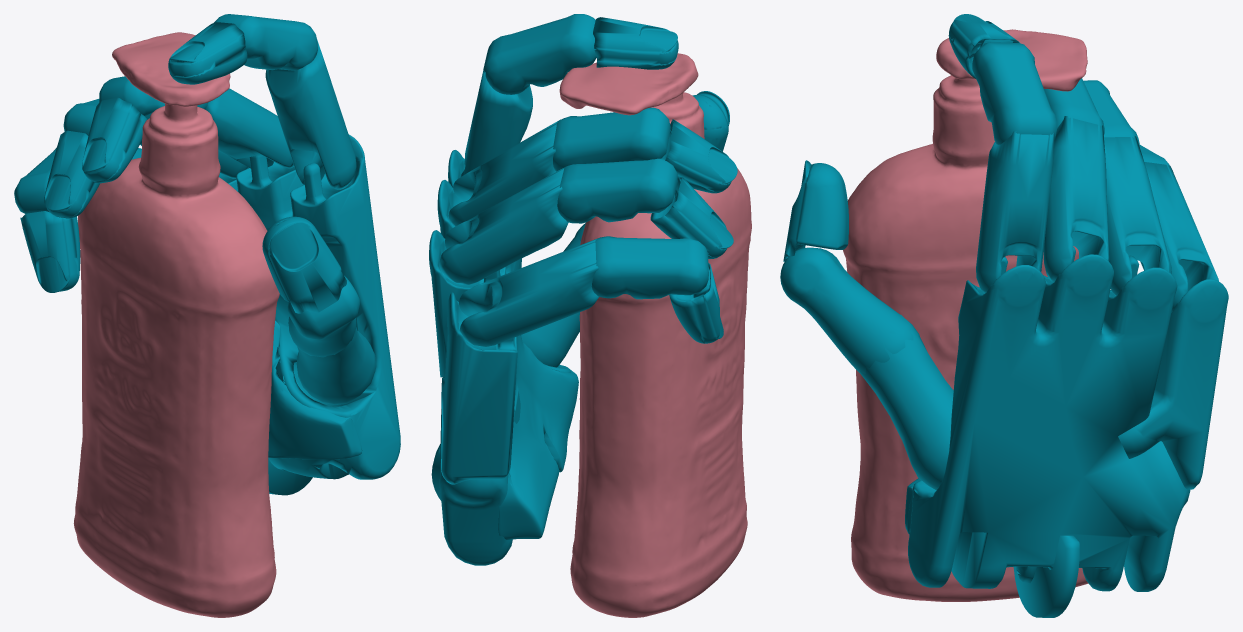
3 renders of one model, left to right at view 1: azimuth 30°, elevation 25°; view 2: azimuth 150°, elevation 25°; view 3: azimuth 270°, elevation 25°, orthographic. The views are drawn at different scales.
Parts seen in each view (by area): view 1: world; view 2: world; view 3: world.
Part boxes in pixels (x1,y1,x2,y2): world: (14,14,400,617); world: (429,14,751,617); world: (780,14,1228,617).
Size of the model in its own units: 0.114 by 0.1933 by 0.1369.
